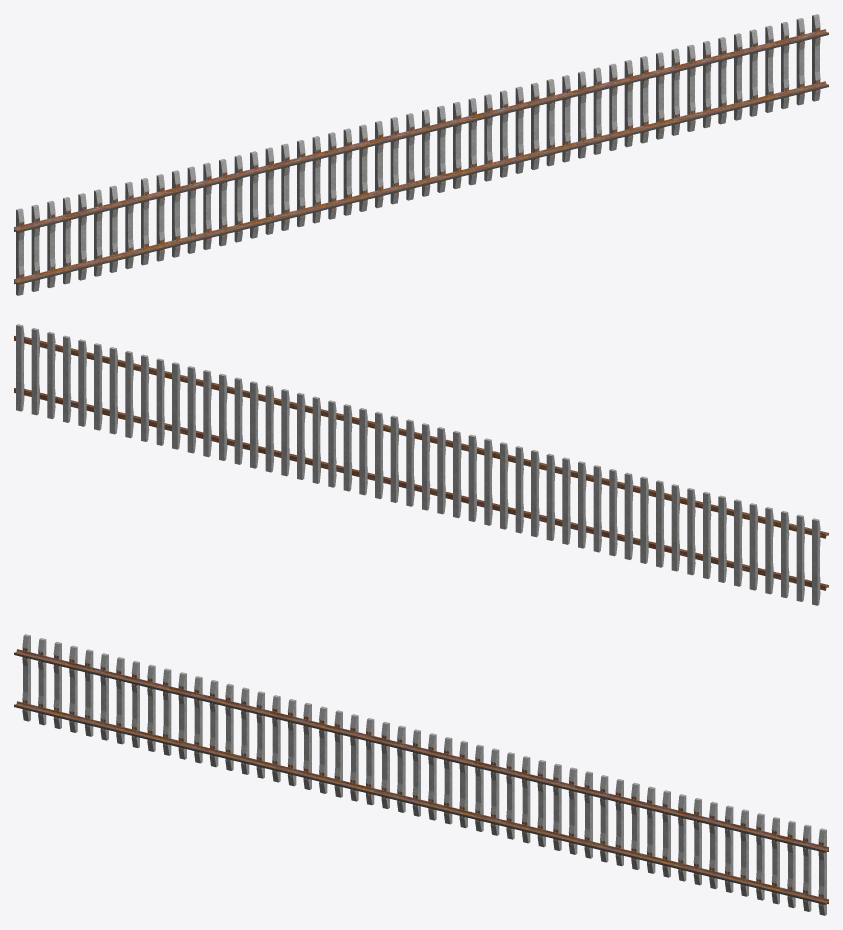
The model's file is rails.obj.
The picture shows the model from 3 angles, top to bottom: view 1: azimuth 30°, elevation 25°; view 2: azimuth 150°, elevation 25°; view 3: azimuth 330°, elevation 25°; orthographic projection.
Parts seen in each view (by area): view 1: Rails_.001; view 2: Rails_.001; view 3: Rails_.001.
Boxes of the visible parts, <box> form: Rails_.001: <box>14,14,828,295</box>; Rails_.001: <box>14,324,828,605</box>; Rails_.001: <box>14,634,828,915</box>.
Size of the model in its own units: 26 by 2.6 by 0.35.
